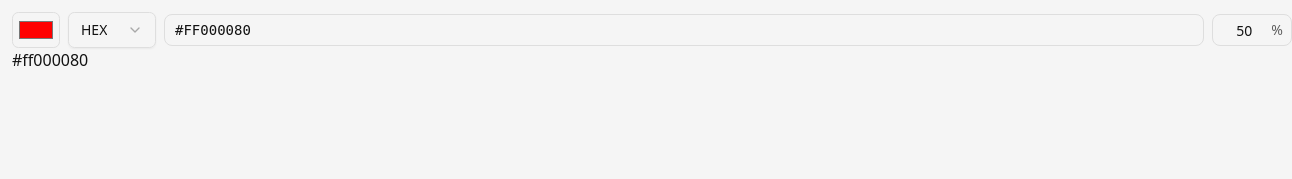
Test case: ColorInput — format › carries alpha across a format switch
Click the dropdown named "Color format".
click(112, 30)  # box x1=68 y1=12 x2=156 y2=48
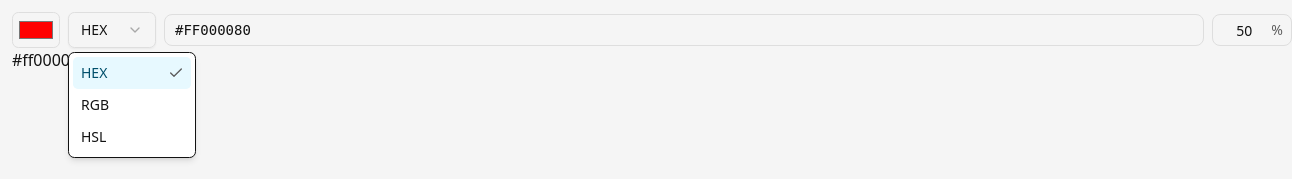
Click the option "RGB".
click(95, 104)  # box x1=81 y1=95 x2=109 y2=114
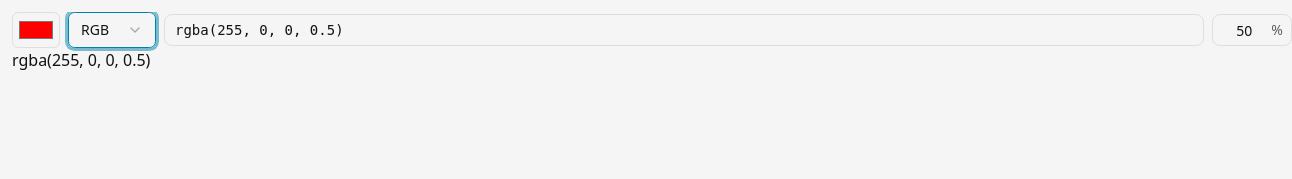
Check: the text with test id "value" shows "rgba(255, 0, 0, 0.5", box x1=12 y1=49 x2=150 y2=71
